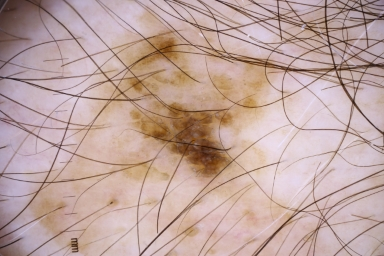nevus: (132, 103, 227, 177)
